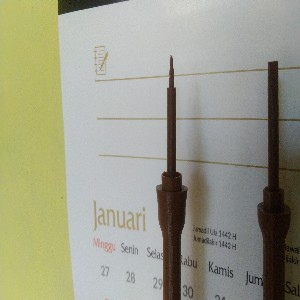obeng: (258, 61, 292, 300)
solder: (155, 52, 190, 300)
